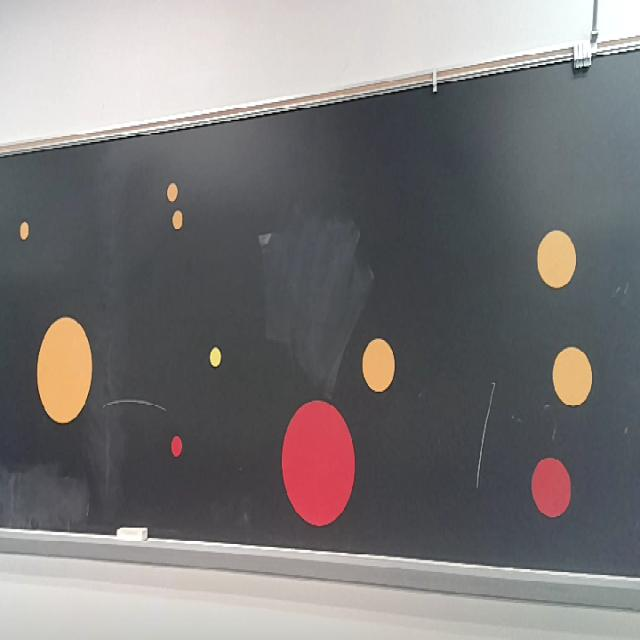Orange: (36, 315, 92, 423), (552, 347, 593, 406), (537, 229, 577, 288), (362, 338, 395, 392), (167, 183, 178, 202), (172, 211, 183, 229), (20, 221, 30, 240)
Red: (282, 400, 355, 526), (531, 458, 572, 518), (171, 436, 182, 458)
Yellow: (209, 347, 222, 369)
